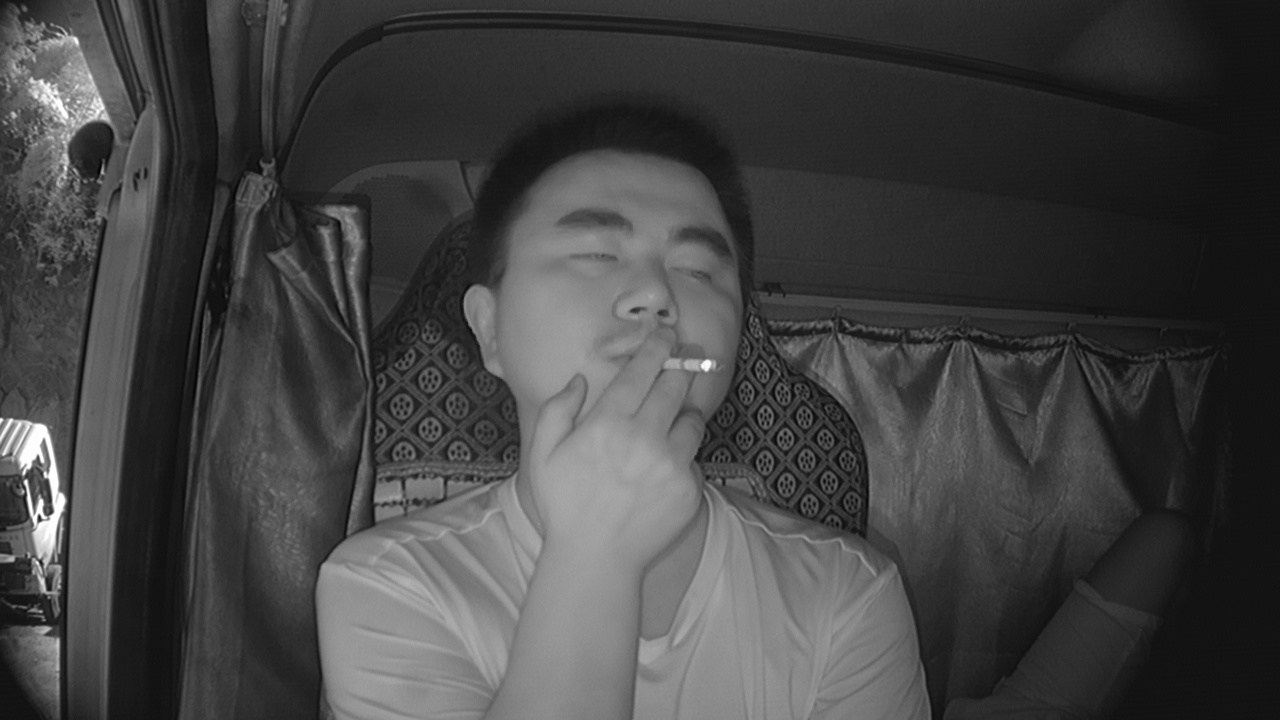hand: (539, 340, 696, 531)
